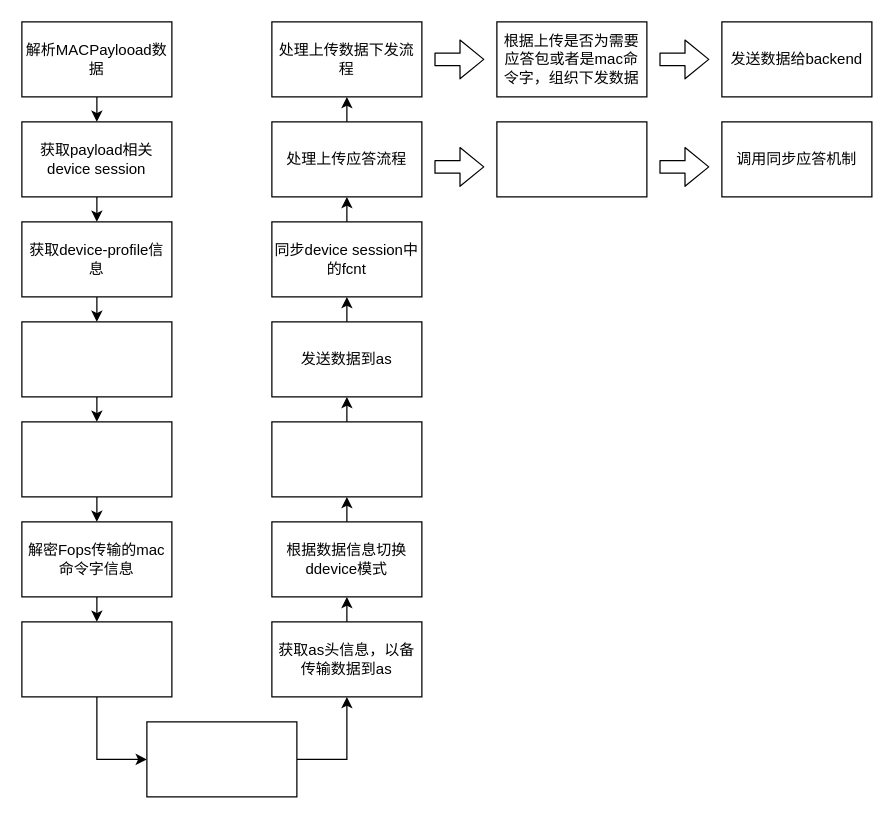
Some shapes in this 894 by 819 pixel diagram are drawn without their labels. The centre of each missing label's shape, as x and y in pixels:
grpc调用as的下行应答机制: point 571,159
利用service profile过滤rxinfo: point 96,459
处理mac命令字: point 346,459
获取service-profile信息: point 96,359
解密FRMPayload传输的Mac命令字信息: point 96,659
记录上行日志: point 221,759
